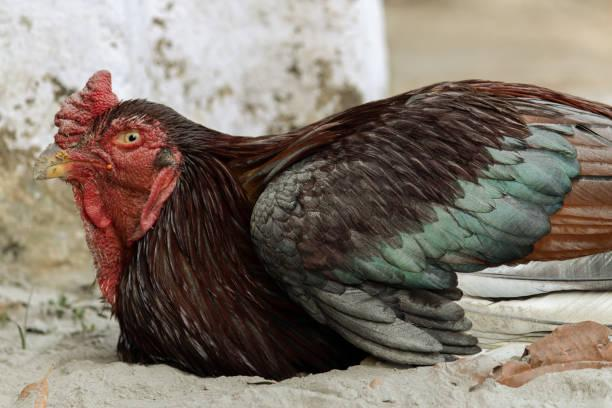AbNormal: (33, 62, 612, 371)
